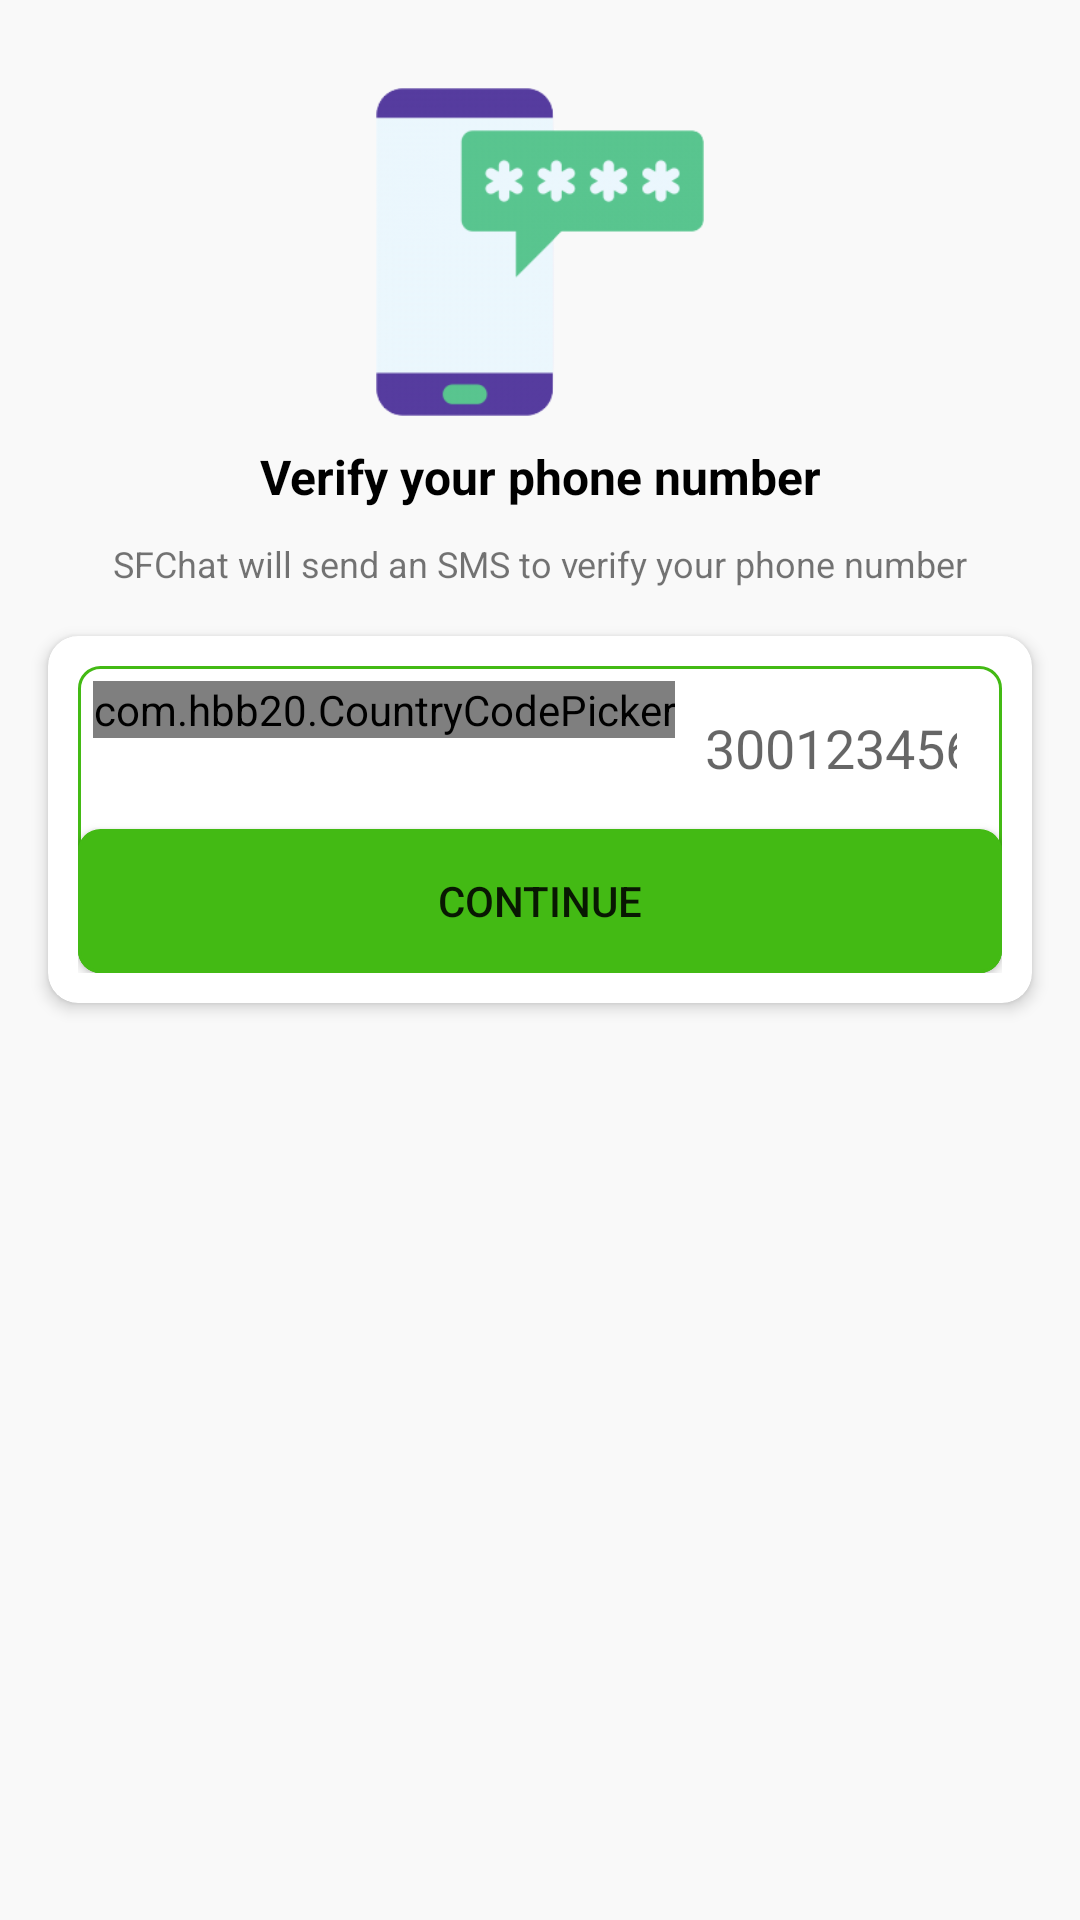

Icon click points for this 1080px x 1920px phone screenshot, format (x,y):
otp mobile: (540,252)
